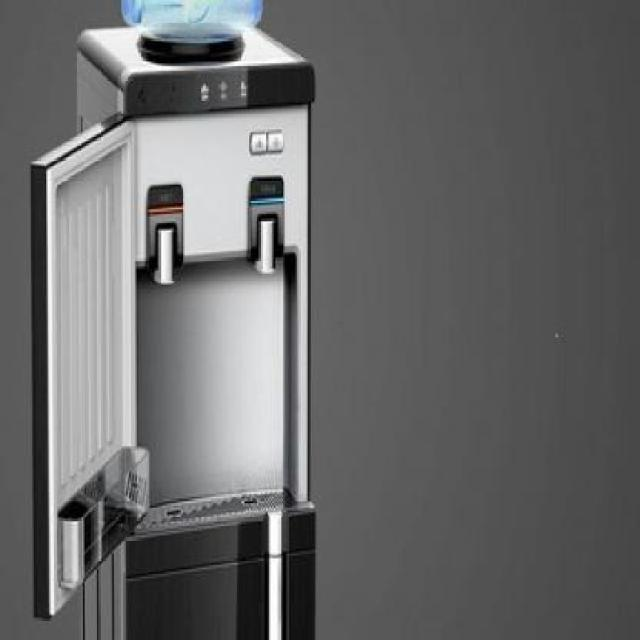cooler: (34, 0, 317, 640)
